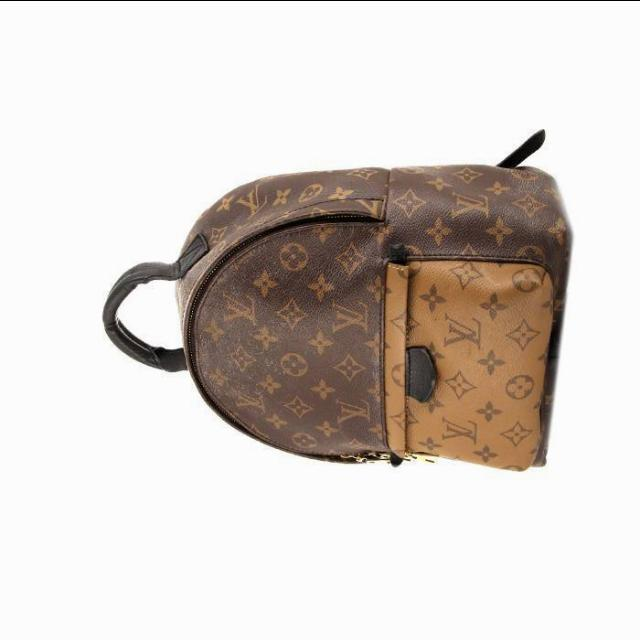backpack: (102, 130, 573, 472)
